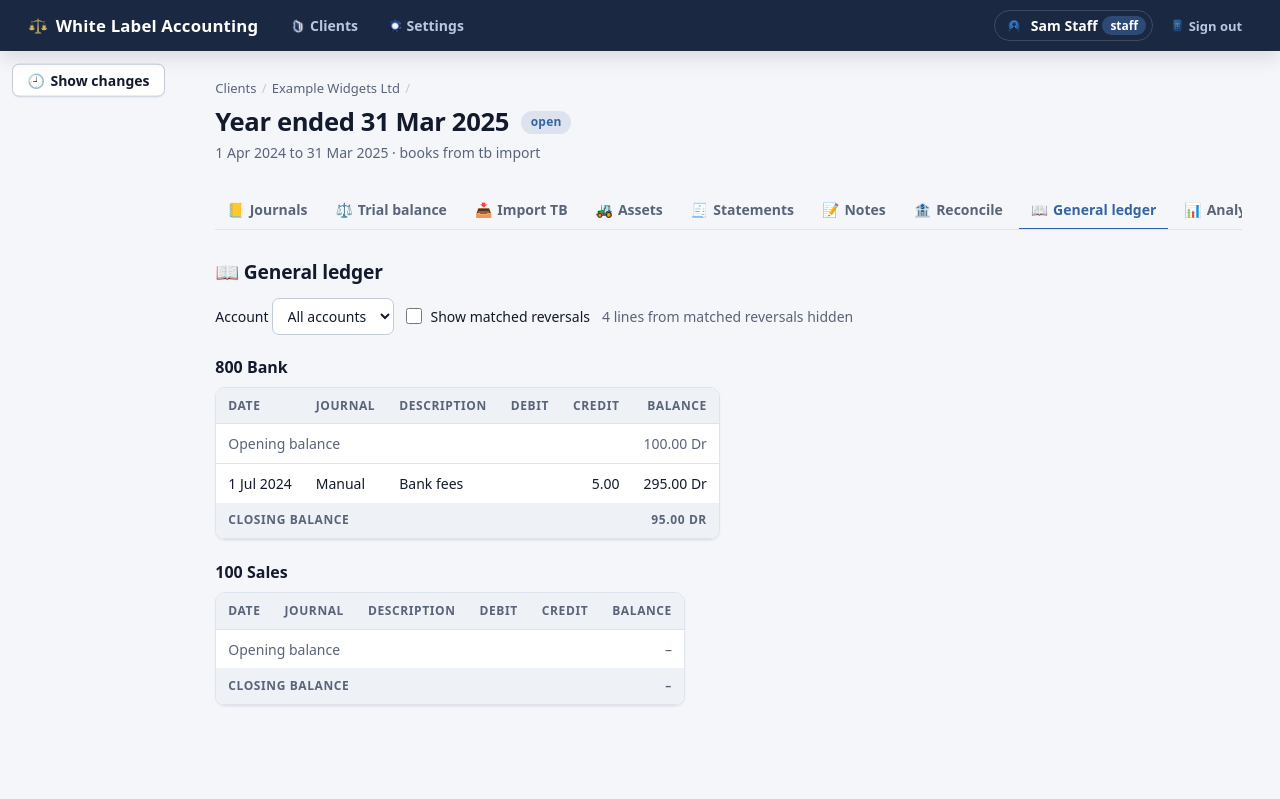
it: general ledger › hides matched reversals until asked, with the same balances either way
Expected: the text "Wrong sale" is not shown
Expected: the text "Bank fees" shows "295.00 Dr", [644, 474, 707, 493]
Click the checkbox labelled "Show matched reversals": (414, 316) [406, 308, 422, 324]
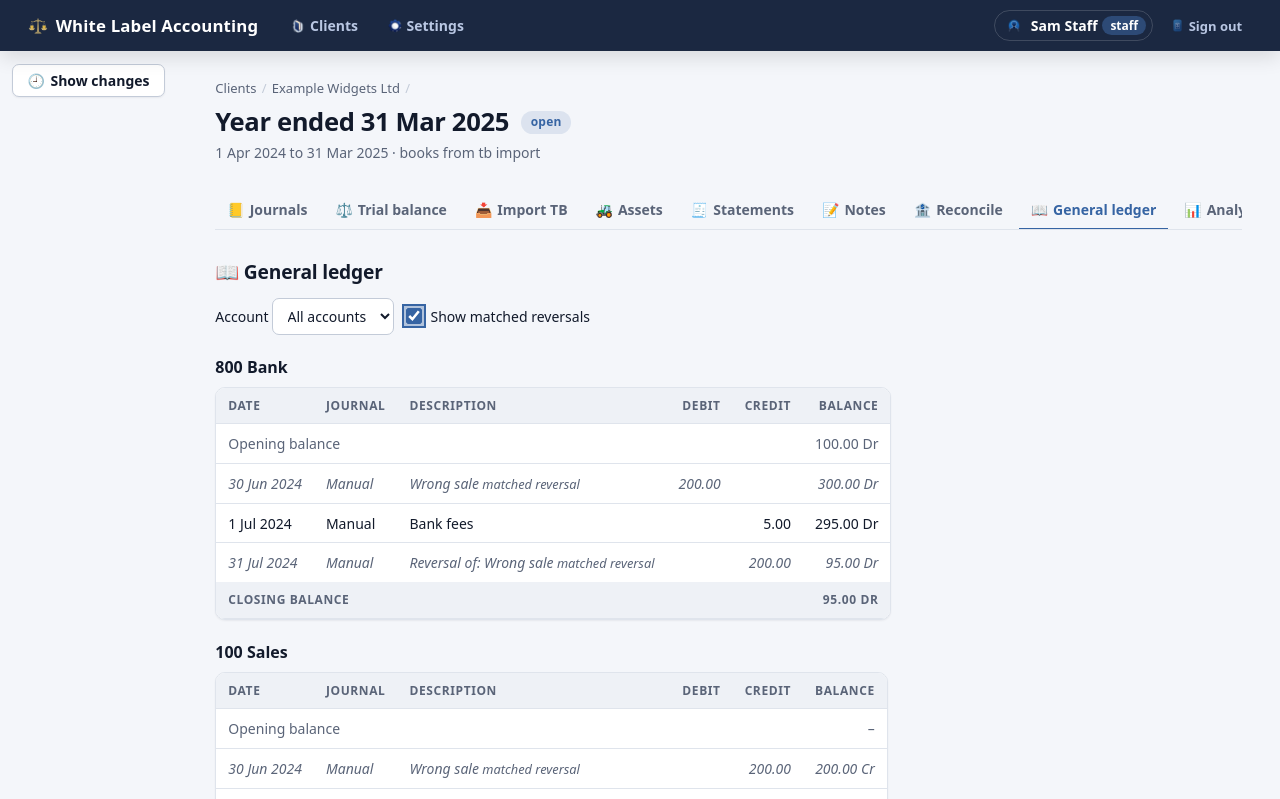
Expected: the row "1 Jul 2024 Manual Bank fees 5.00 295.00 Dr" is shown, [216, 504, 890, 543]
Expected: the row "Closing balance 95.00 Dr" is shown, [216, 582, 890, 619]
Note: One account at a time.
Select "100 Sales" in the dropdown labelled "Account": (333, 317) [272, 298, 394, 335]
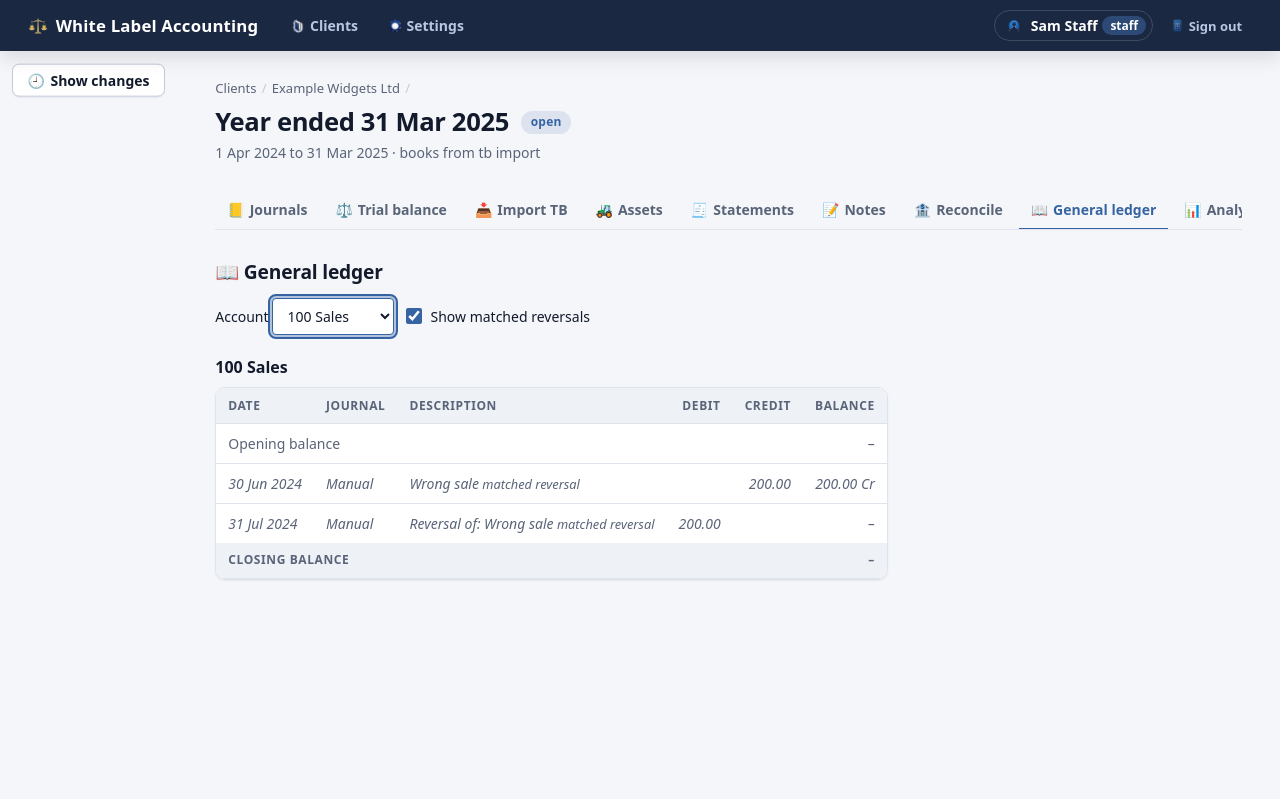
Expected: the element "100 Sales" is shown, [215, 356, 888, 580]
Expected: the heading "800 Bank" is gone
